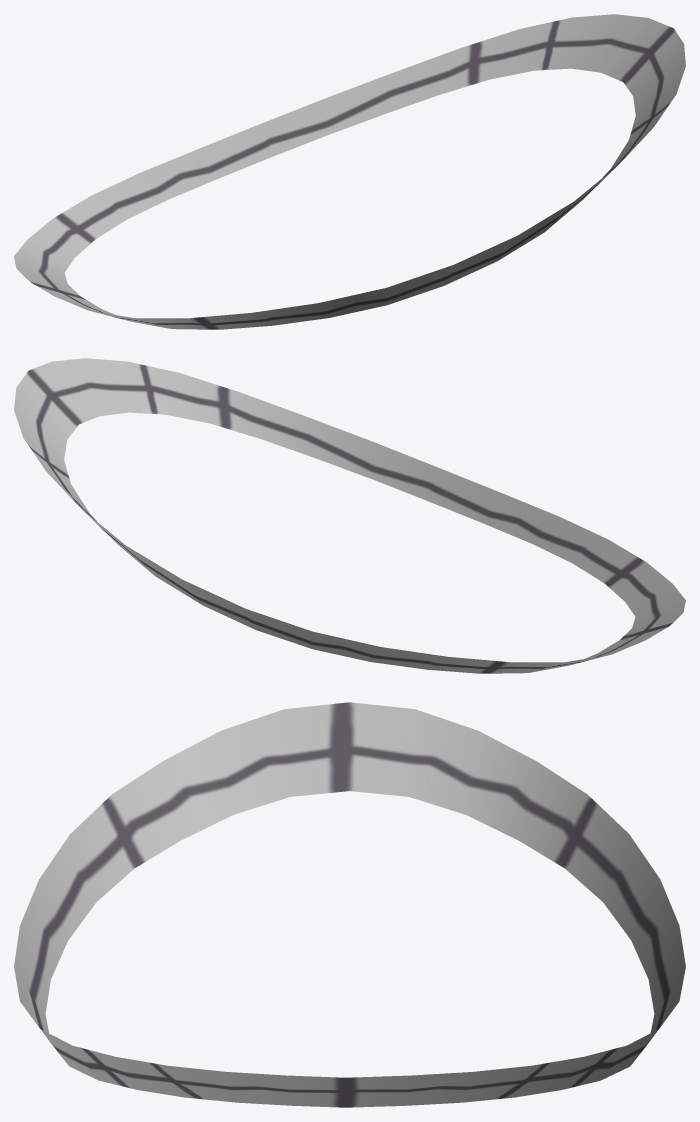
3 renders of one model, top to bottom at view 1: azimuth 30°, elevation 25°; view 2: azimuth 150°, elevation 25°; view 3: azimuth 270°, elevation 25°, orthographic. The views are drawn at different scales.
Visible parts, largest first — view 1: 球体.005; view 2: 球体.005; view 3: 球体.005.
Part boxes in pixels (x1,y1,x2,y2): 球体.005: (14, 14, 685, 329); 球体.005: (14, 358, 685, 673); 球体.005: (14, 702, 685, 1107).
Size of the model in its own units: 56.15 by 11.04 by 29.18.
